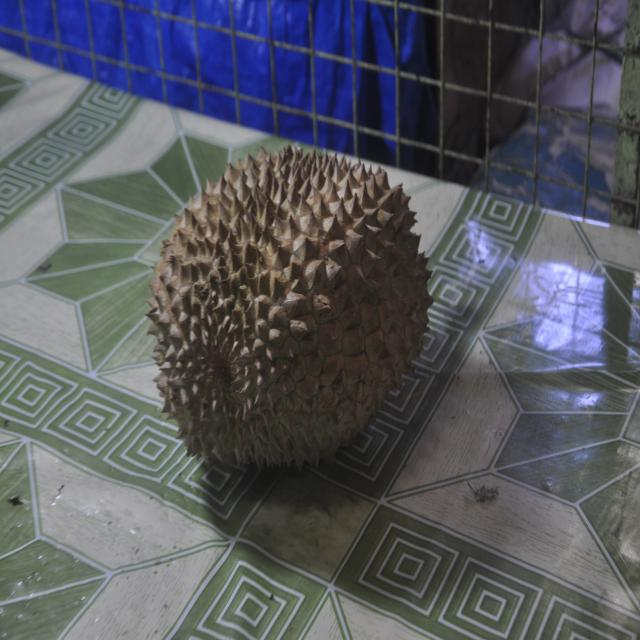mature: (147, 148, 433, 468)
